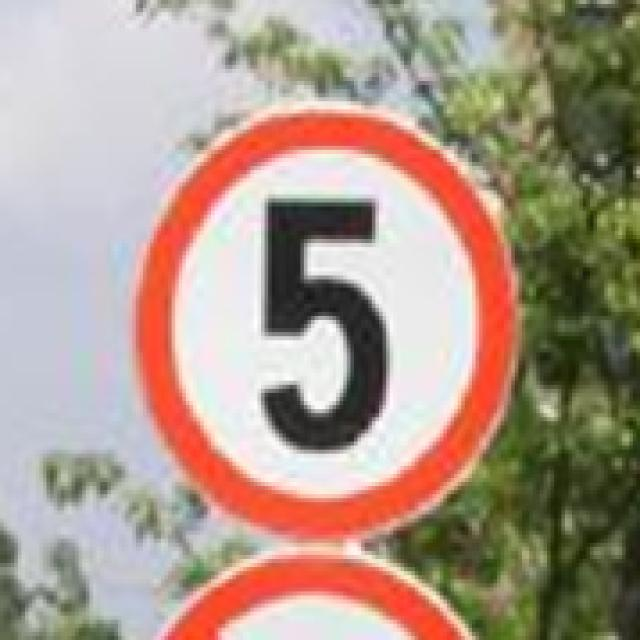speed limit 10: (136, 107, 520, 542)
